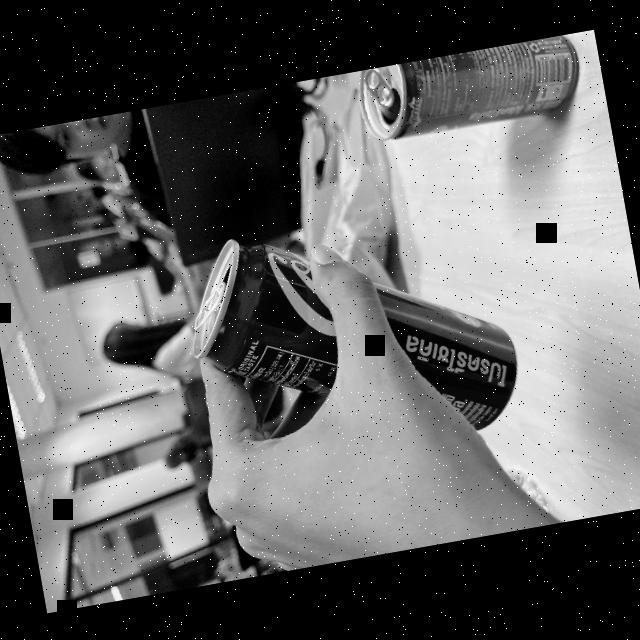can: (165, 189, 532, 484), (345, 32, 591, 158)
